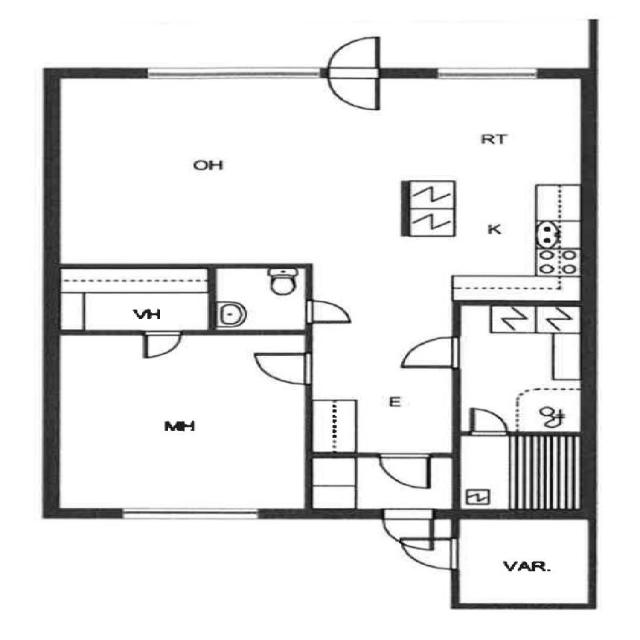door: (321, 33, 385, 113), (389, 331, 465, 373), (372, 505, 433, 549), (246, 349, 316, 386), (373, 451, 433, 492), (391, 537, 461, 572), (298, 297, 358, 327), (461, 404, 513, 437), (135, 329, 184, 362)
window: (52, 74, 380, 266), (138, 61, 324, 85), (110, 501, 274, 527), (420, 60, 548, 86)
zone: (50, 329, 314, 512), (378, 75, 586, 299), (454, 299, 590, 434), (450, 514, 596, 608), (454, 430, 590, 514), (51, 268, 213, 332), (210, 266, 308, 332)
